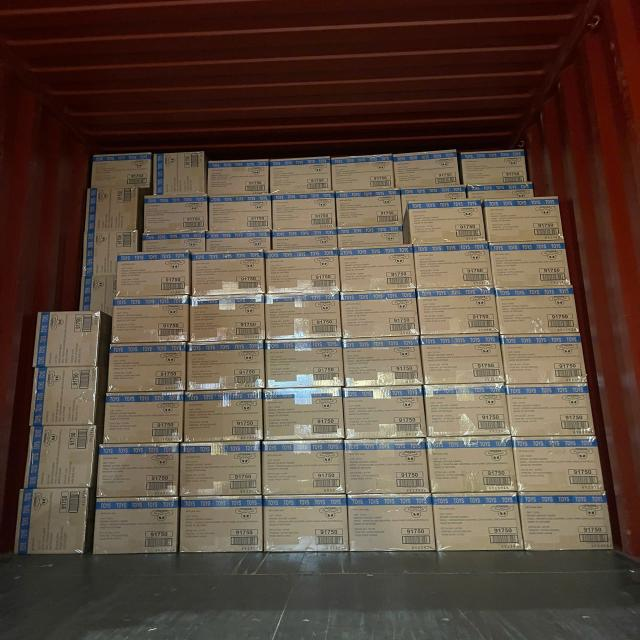Carton: (522, 496, 614, 554), (13, 489, 89, 559), (96, 497, 182, 556), (426, 437, 513, 494), (23, 424, 98, 489), (432, 496, 520, 551), (516, 442, 606, 495), (262, 440, 345, 496), (345, 439, 428, 495), (180, 441, 263, 497), (264, 500, 349, 553), (347, 504, 433, 556), (181, 501, 265, 554), (100, 448, 182, 501), (500, 335, 586, 385), (424, 389, 508, 440), (344, 390, 425, 442), (263, 391, 345, 442), (496, 285, 578, 335), (184, 392, 264, 443), (417, 285, 498, 335), (511, 391, 595, 439), (484, 195, 565, 244), (109, 344, 188, 394), (106, 397, 186, 446), (337, 245, 416, 294), (35, 367, 99, 427), (421, 338, 504, 384), (342, 290, 419, 339), (343, 341, 423, 388), (407, 198, 485, 246), (264, 248, 342, 296), (492, 242, 572, 288), (190, 295, 266, 343), (415, 241, 491, 289), (115, 249, 191, 297), (265, 342, 344, 388), (188, 346, 266, 392), (190, 249, 266, 296), (336, 195, 406, 246), (265, 297, 342, 343), (39, 314, 99, 371), (112, 303, 190, 346), (391, 148, 461, 190), (458, 147, 531, 185), (329, 154, 395, 194), (82, 231, 139, 275), (152, 152, 206, 198), (205, 160, 271, 197), (83, 188, 137, 232), (269, 156, 332, 193), (90, 153, 153, 190), (144, 200, 210, 235), (271, 197, 336, 232), (208, 199, 272, 233), (82, 274, 115, 311)
